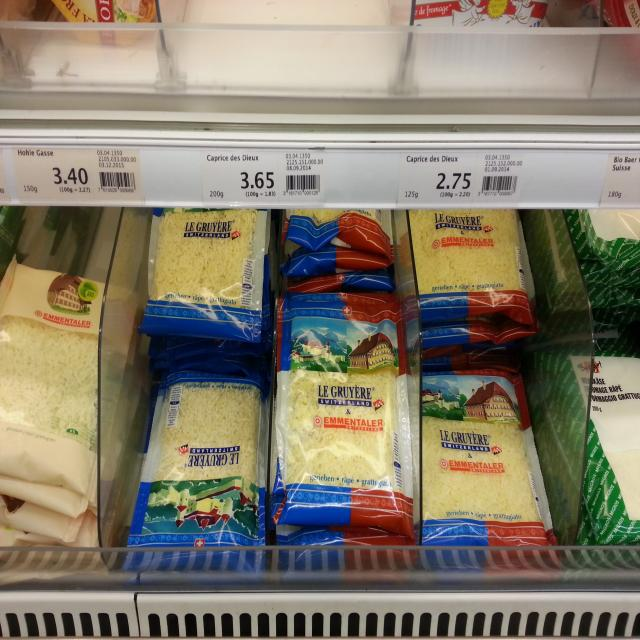Cheese: (263, 286, 417, 530), (0, 247, 140, 497), (122, 369, 270, 574), (415, 362, 552, 568), (544, 347, 640, 544), (144, 207, 272, 345), (393, 207, 537, 320)
